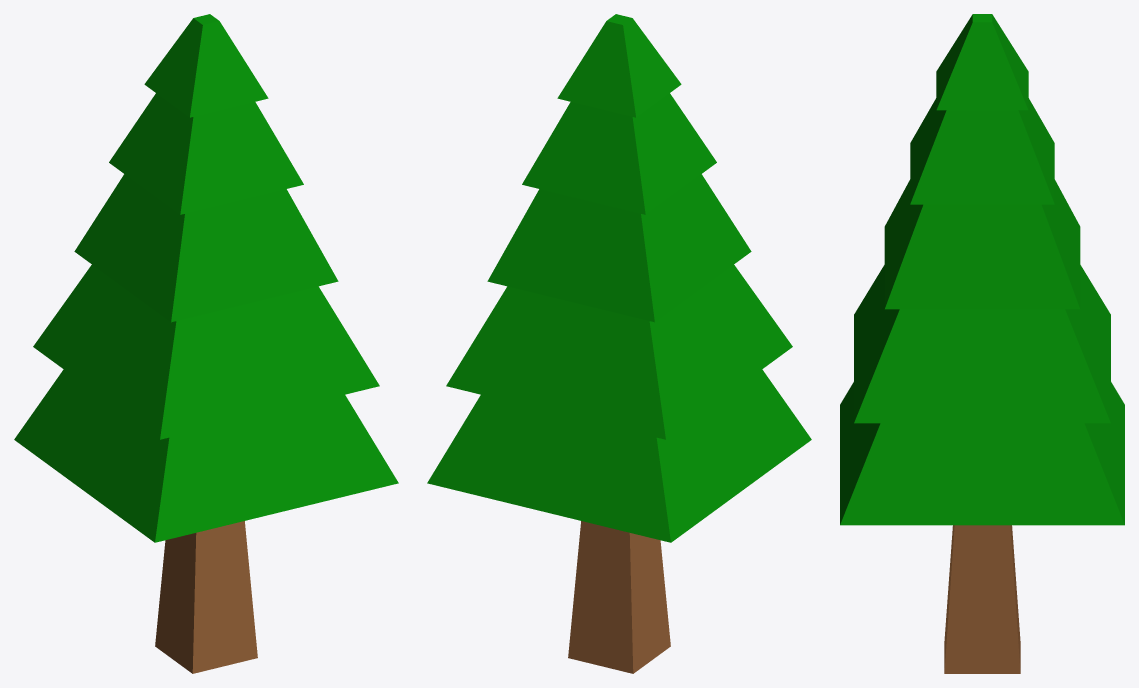
File: variant_1.glb
The picture shows the model from 3 angles, left to right: view 1: azimuth 30°, elevation 25°; view 2: azimuth 150°, elevation 25°; view 3: azimuth 270°, elevation 25°; orthographic projection.
Parts seen in each view (by area): view 1: Cube.001; view 2: Cube.001; view 3: Cube.001.
Part boxes in pixels (x1,y1,x2,y2): Cube.001: (14, 14, 398, 673); Cube.001: (427, 14, 811, 673); Cube.001: (840, 14, 1124, 673).
Size of the model in its own units: 0.6148 by 1.52 by 0.6148.
